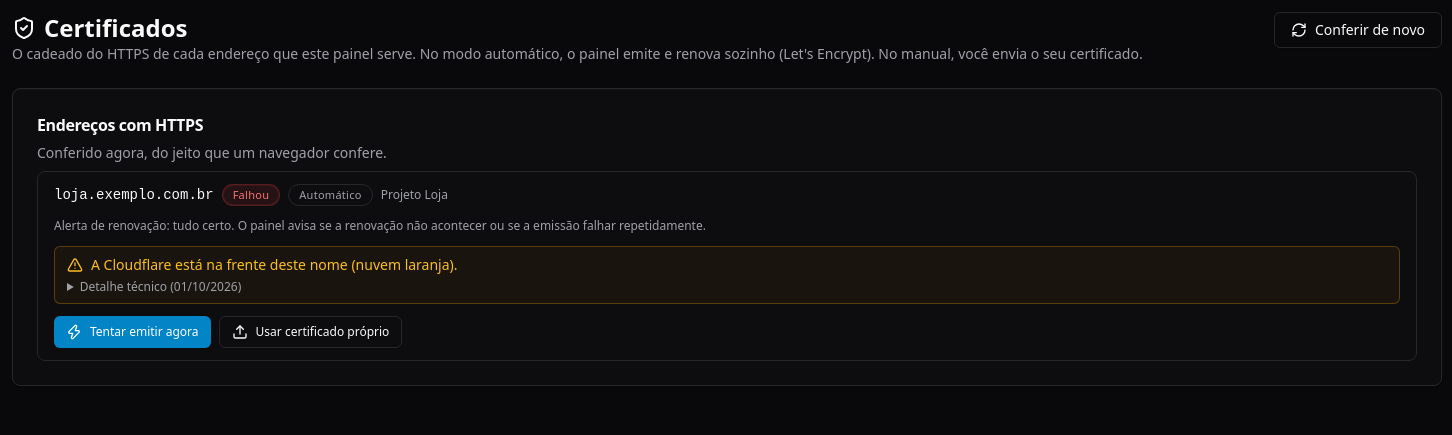
Test case: CertificatesPage — Tentar emitir agora › limite de frequência (429): mostra a mensagem do servidor
Step 1. Click the button "Tentar emitir agora" → (132, 332), box x1=54 y1=316 x2=211 y2=348
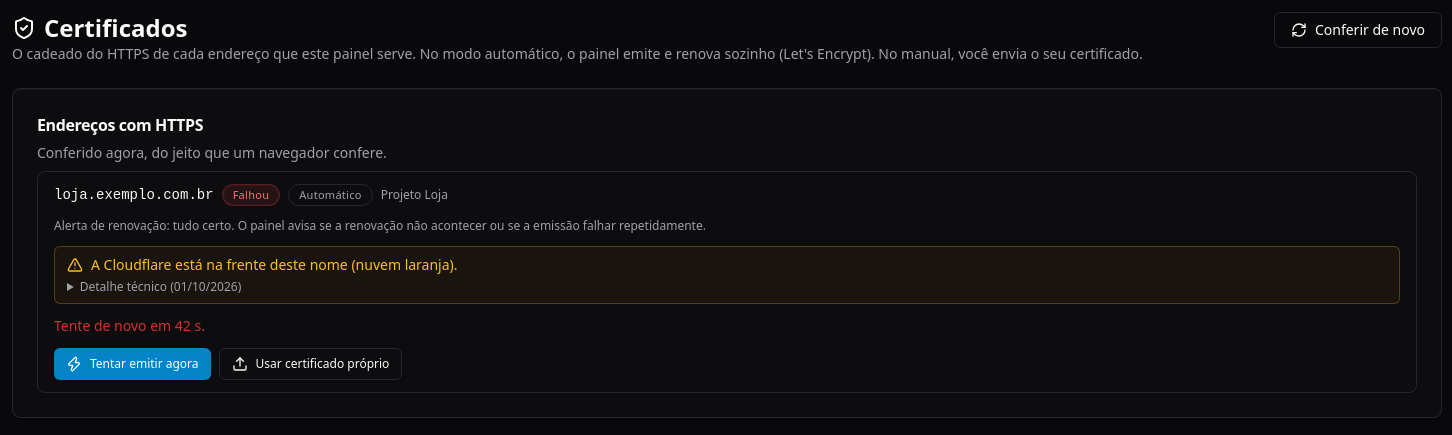
Expected: the text "Tente de novo em 42 s." is shown, x1=54 y1=316 x2=205 y2=335
